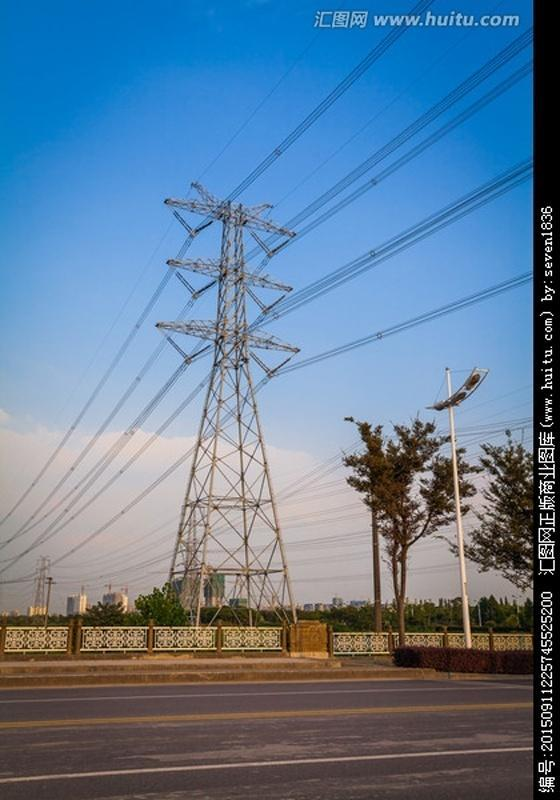power_tower: (154, 177, 301, 628), (32, 552, 53, 626)
